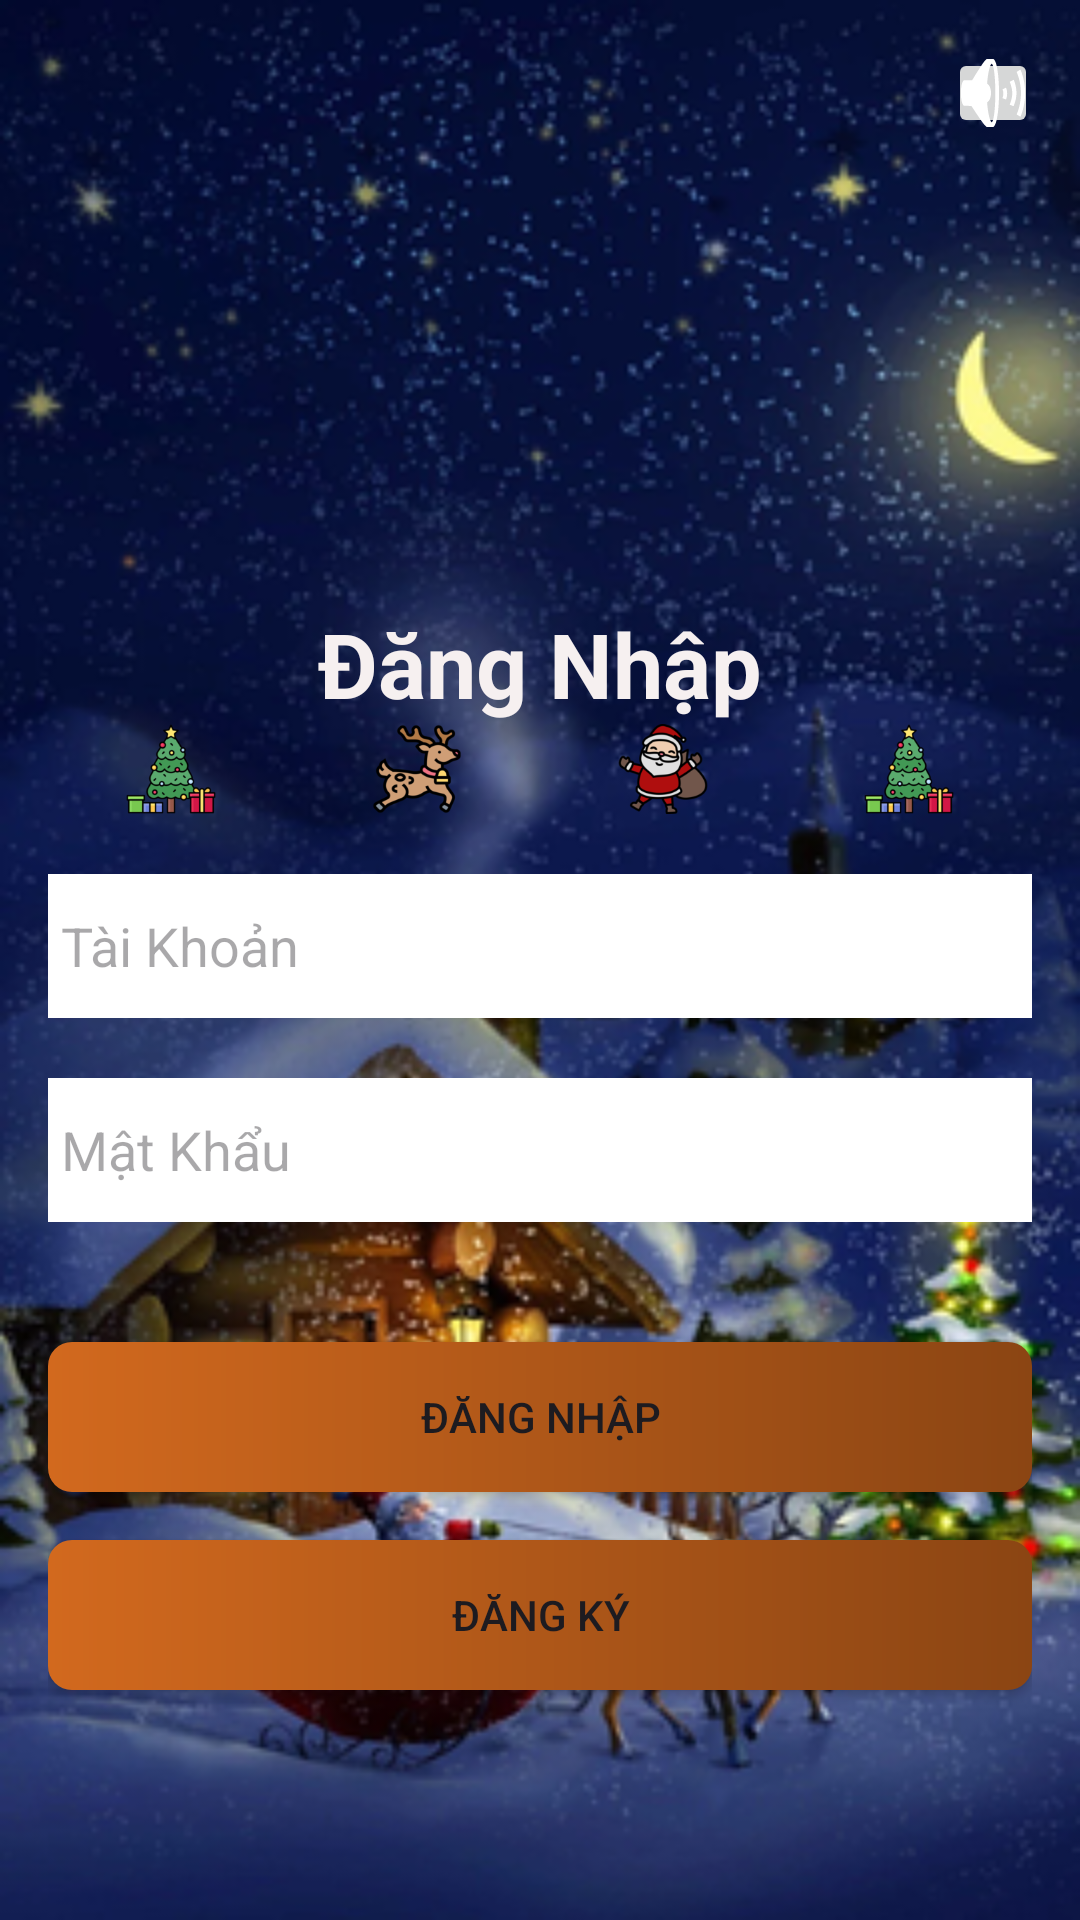

Point at icon controls on the screen. Image size 1080px x 1920px, points as point (x, y).
lock silent mode off: point (990, 92)
